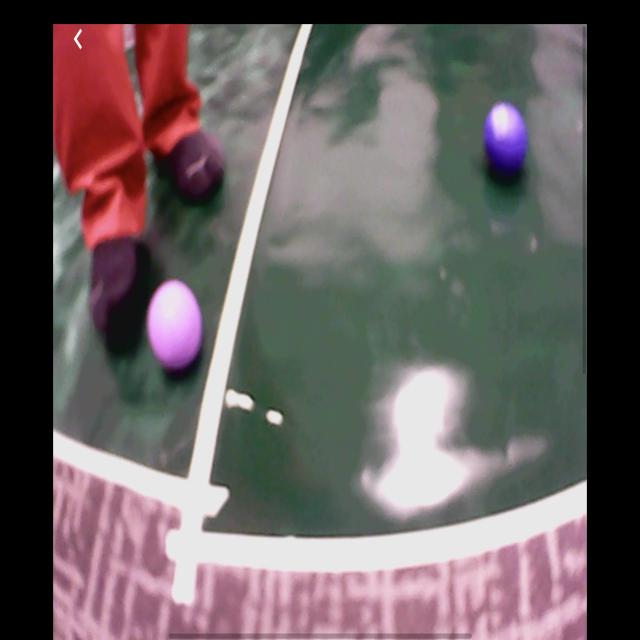ball: (148, 281, 204, 369), (484, 103, 528, 177)
